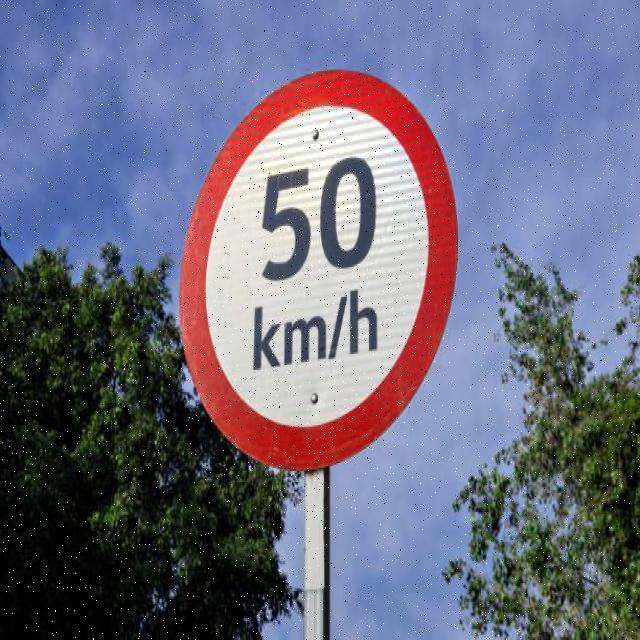speed_limit_50: (180, 69, 458, 473)
